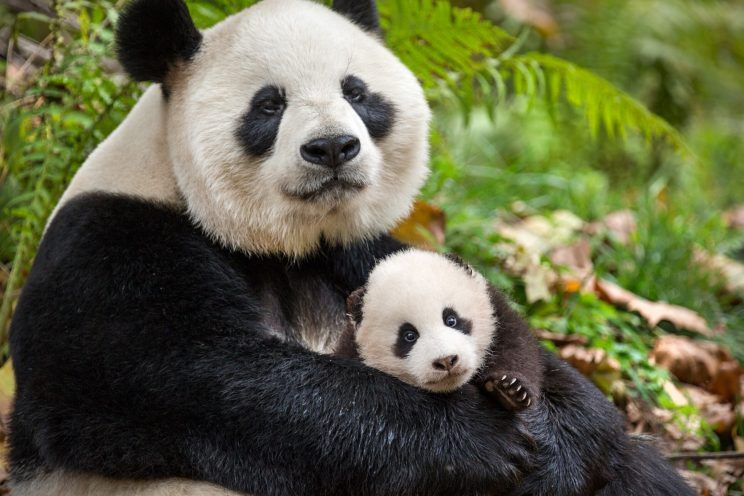panda: (105, 10, 472, 261), (323, 246, 605, 443)
